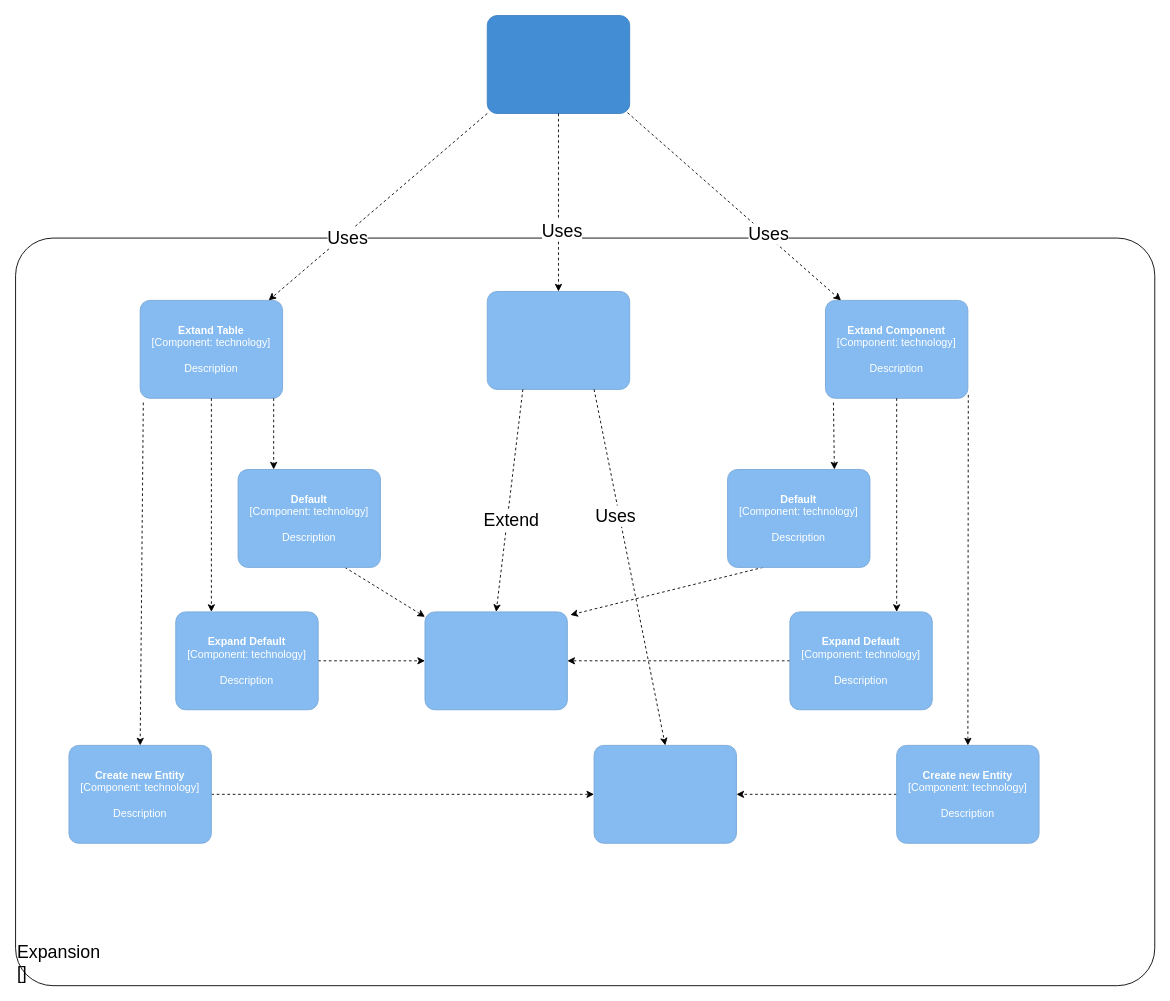
Some shapes in this 1170 by 1001 pixel diagram are drawn without their labels. Here are the shapes that lost their labels. From the top down, the box of each, then its label:
(486, 15, 630, 113): Game Logic [Container: technology] Description
(486, 291, 630, 389): Extand Rules [Component: technology] Description
(424, 611, 567, 710): Default Rules [Component: technology] Description
(593, 744, 736, 843): Create New Rules [Component: technology] Description
